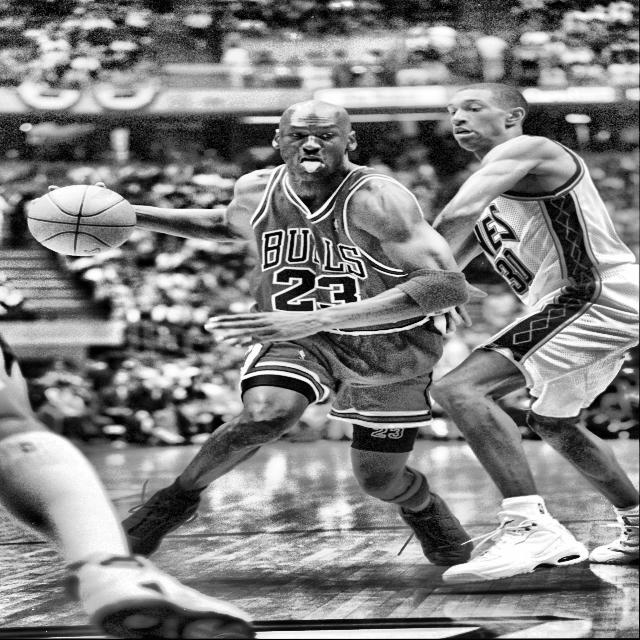Basketball: (27, 185, 135, 256)
